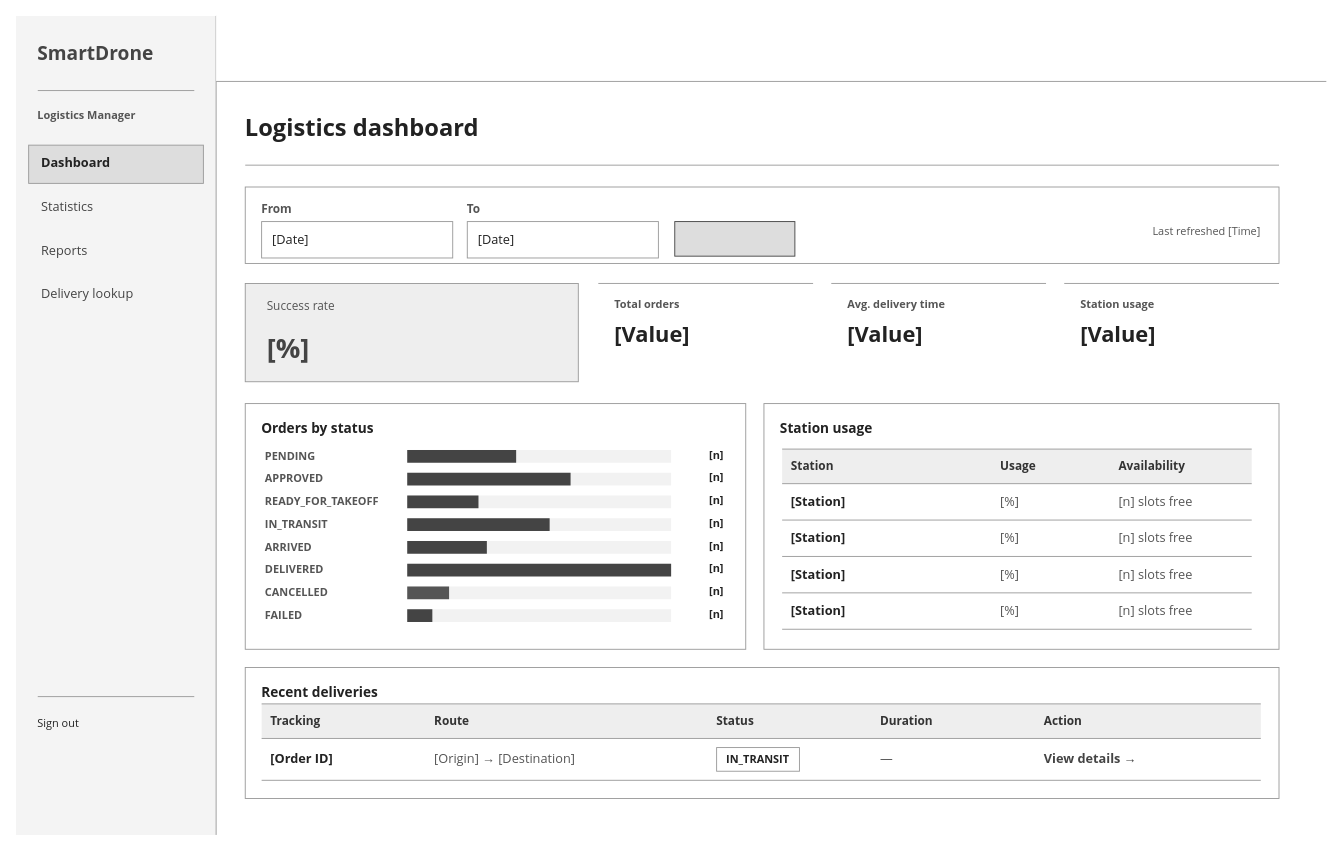
Image size: 1343x852. Some labels were removed from this diagram. Here are the shapes that lost their labels. From the top down, the centre of each, then its label:
At [771,48]: "[User]".
At [734,238]: "Apply".
